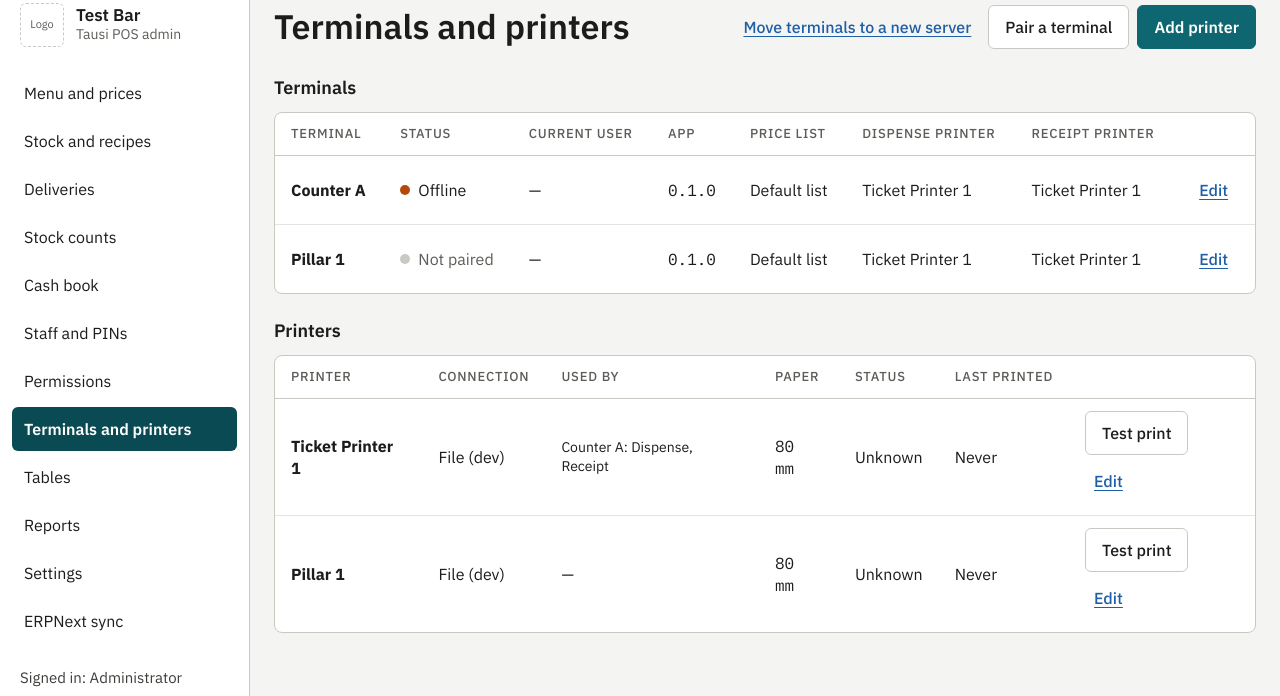
Scenario: Terminals and printers › shows the routing preview while editing a terminal
expect the button with aria-label "Edit Counter A" is shown: met, box 1190,168 -> 1237,212
Click the button with aria-label "Edit Pillar 1".
click(1214, 259)  # box 1190,237 -> 1237,281
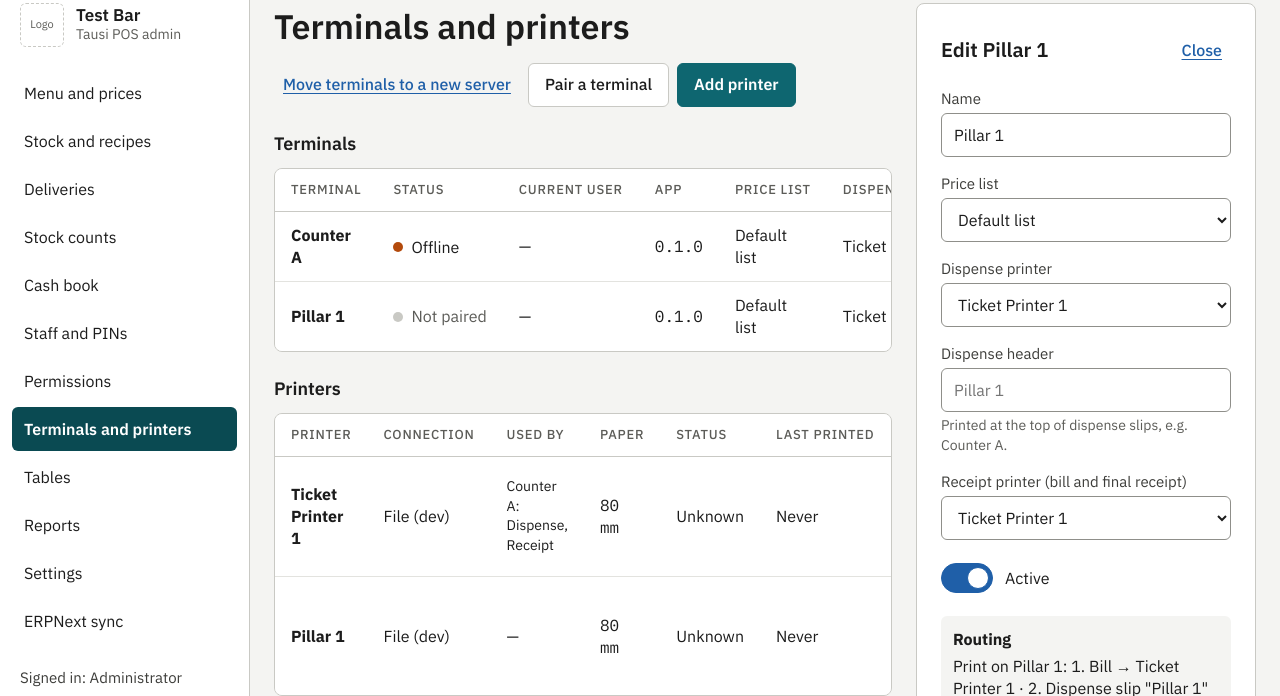
Select "Pillar 1" in the dropdown labelled "Dispense printer" at (1086, 305), box 941,283 -> 1231,327
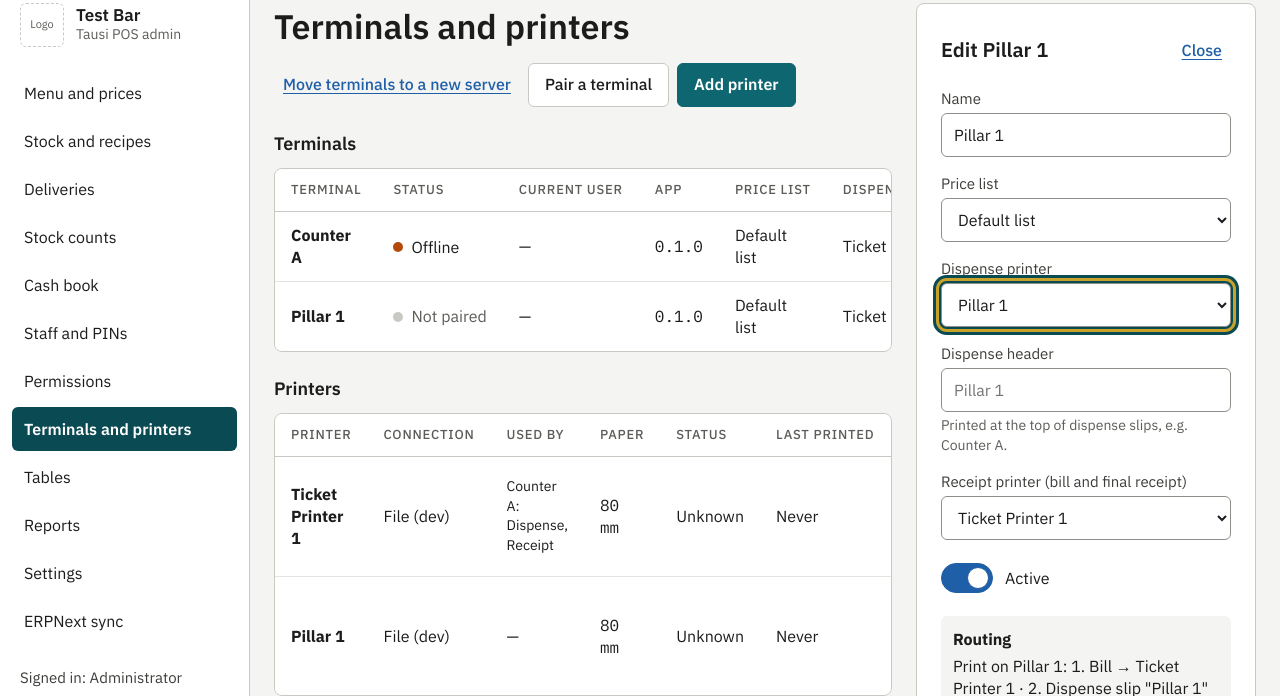
Type "Counter A" into the field labelled "Dispense header".
click(1086, 390); type("Counter A")  # box 941,368 -> 1231,412
(page scrolled)
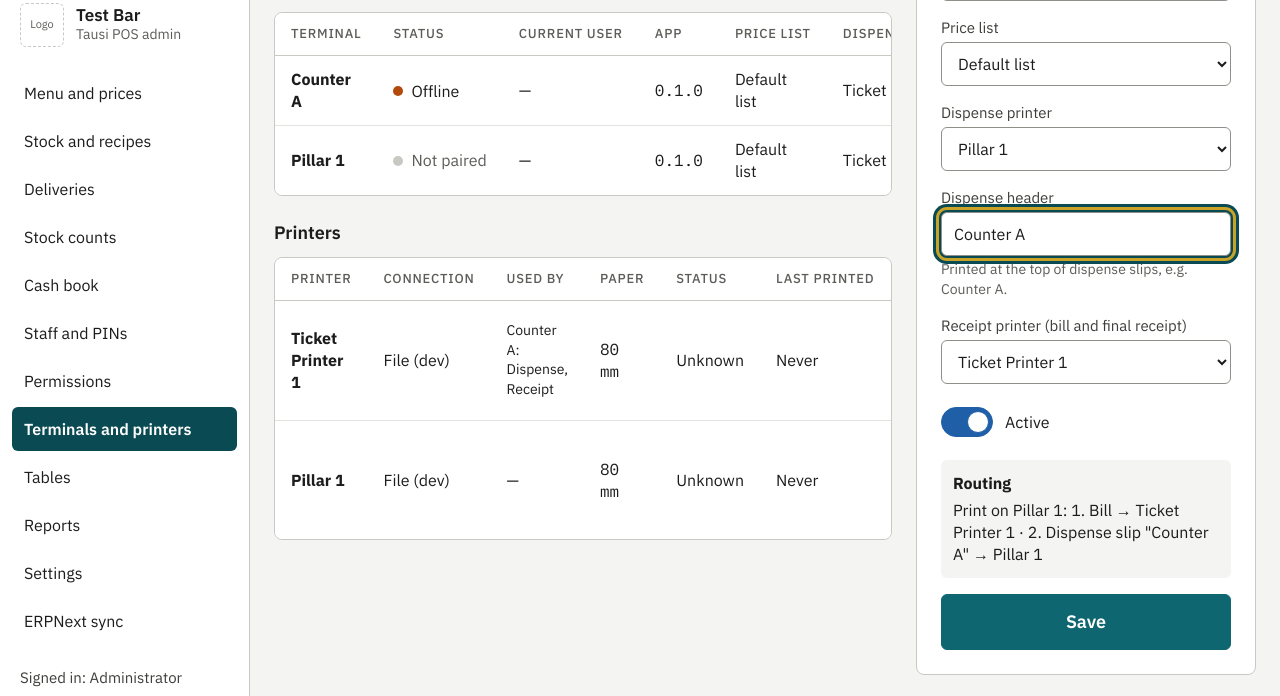
expect the text with test id "routing-preview" shows "Dispense slip \"Counter A\" → Pillar 1": met, box 953,500 -> 1209,564
